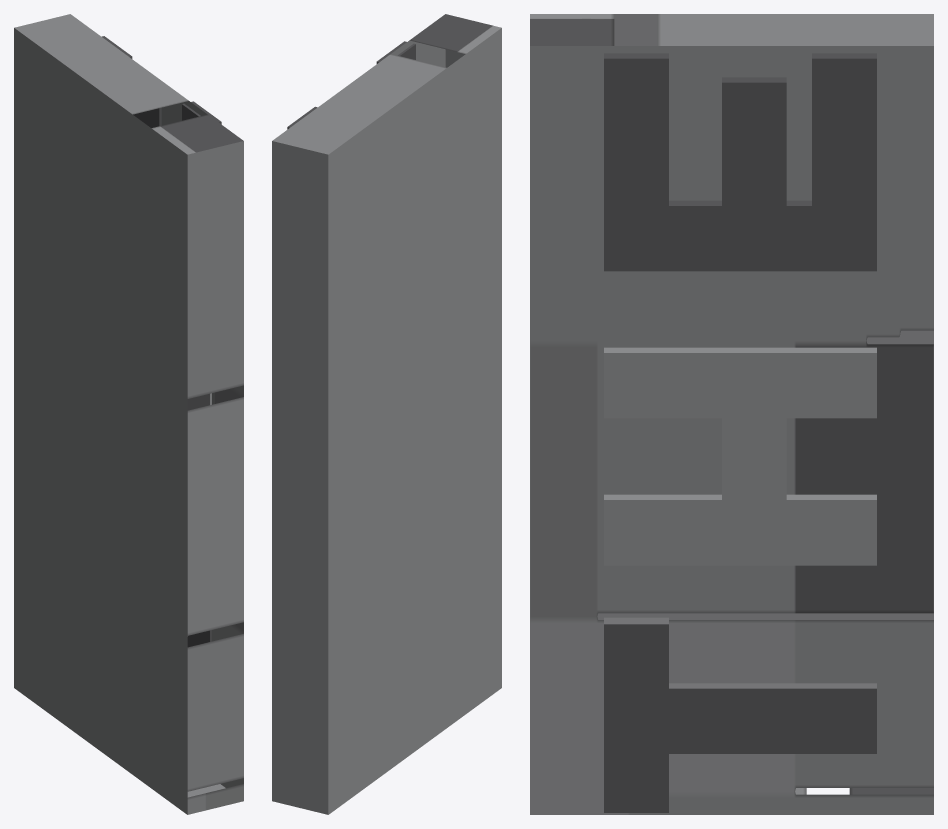
3 views of the same model, side by side, from view 1: azimuth 30°, elevation 25°; view 2: azimuth 150°, elevation 25°; view 3: azimuth 270°, elevation 25° (orthographic). The views are drawn at different scales.
Bounding box in the file's own units: 0.0794 × 0.762 × 0.3628.
